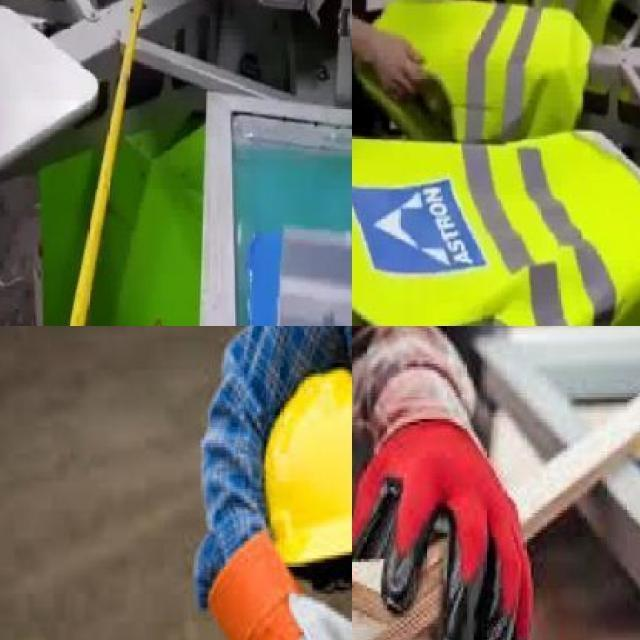apron: (352, 406, 559, 640), (204, 539, 352, 640)
